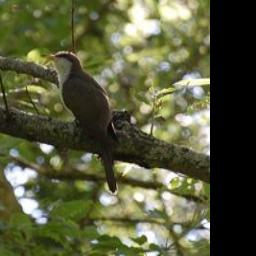Cuckoo: (39, 50, 122, 196)
